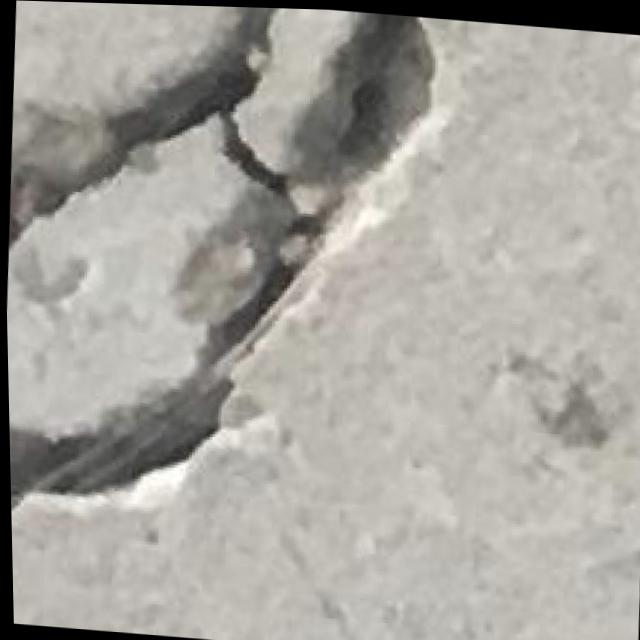Crack: (0, 0, 461, 568)
